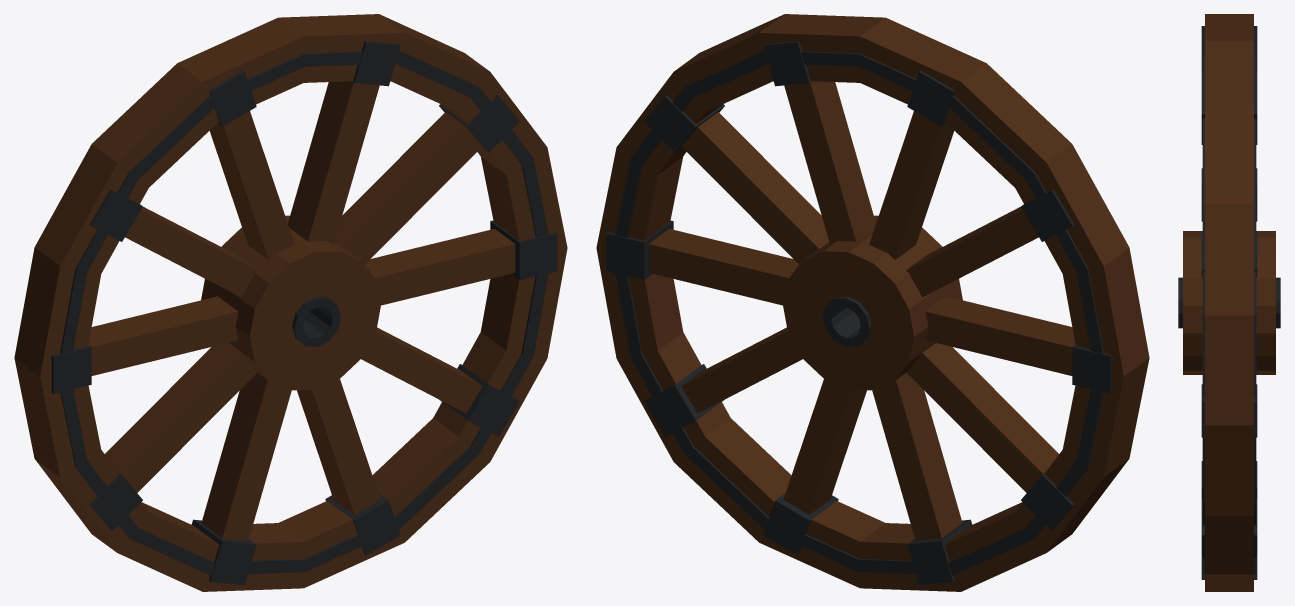
The model's file is wheel_LOD1.obj.
The picture shows the model from 3 angles, left to right: view 1: azimuth 30°, elevation 25°; view 2: azimuth 150°, elevation 25°; view 3: azimuth 270°, elevation 25°; orthographic projection. The views are drawn at different scales.
Visible parts, largest first — view 1: VelegRadWagonWheel1348; view 2: VelegRadWagonWheel1348; view 3: VelegRadWagonWheel1348.
Boxes of the visible parts, box(x1,y1,x2,y2) form: VelegRadWagonWheel1348: box(14, 14, 567, 591); VelegRadWagonWheel1348: box(596, 14, 1149, 591); VelegRadWagonWheel1348: box(1178, 14, 1280, 591).
Size of the model in its own units: 1.25 by 1.25 by 0.22.
